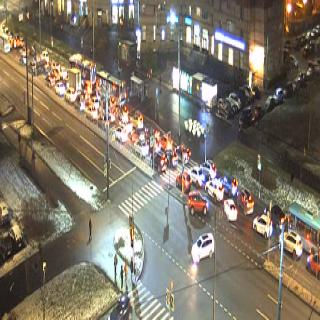large-vehicle: (289, 200, 320, 261), (96, 71, 126, 106), (72, 52, 95, 88), (66, 68, 81, 94)
small-vehicle: (188, 229, 215, 266), (278, 223, 303, 261), (187, 187, 208, 216), (218, 166, 238, 196), (266, 198, 285, 228), (236, 184, 254, 215), (204, 177, 224, 202), (252, 212, 272, 236), (306, 247, 320, 280), (150, 147, 165, 176), (173, 140, 190, 165), (161, 140, 176, 168), (222, 196, 236, 224), (101, 98, 116, 124), (188, 164, 204, 187), (201, 155, 216, 178), (174, 169, 190, 190), (120, 110, 132, 136), (114, 120, 127, 143), (134, 136, 148, 157), (65, 85, 77, 107), (148, 132, 161, 152), (130, 110, 144, 128), (135, 121, 149, 138), (116, 103, 127, 122), (85, 105, 97, 122), (79, 86, 89, 105), (76, 94, 85, 114), (45, 70, 55, 88), (58, 64, 68, 81), (55, 82, 64, 99), (90, 92, 98, 111), (40, 50, 50, 65), (85, 78, 92, 96), (51, 60, 59, 72)
